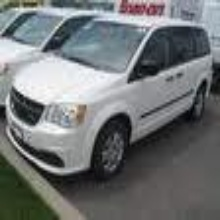no damage: (4, 14, 211, 179), (1, 8, 124, 110)
